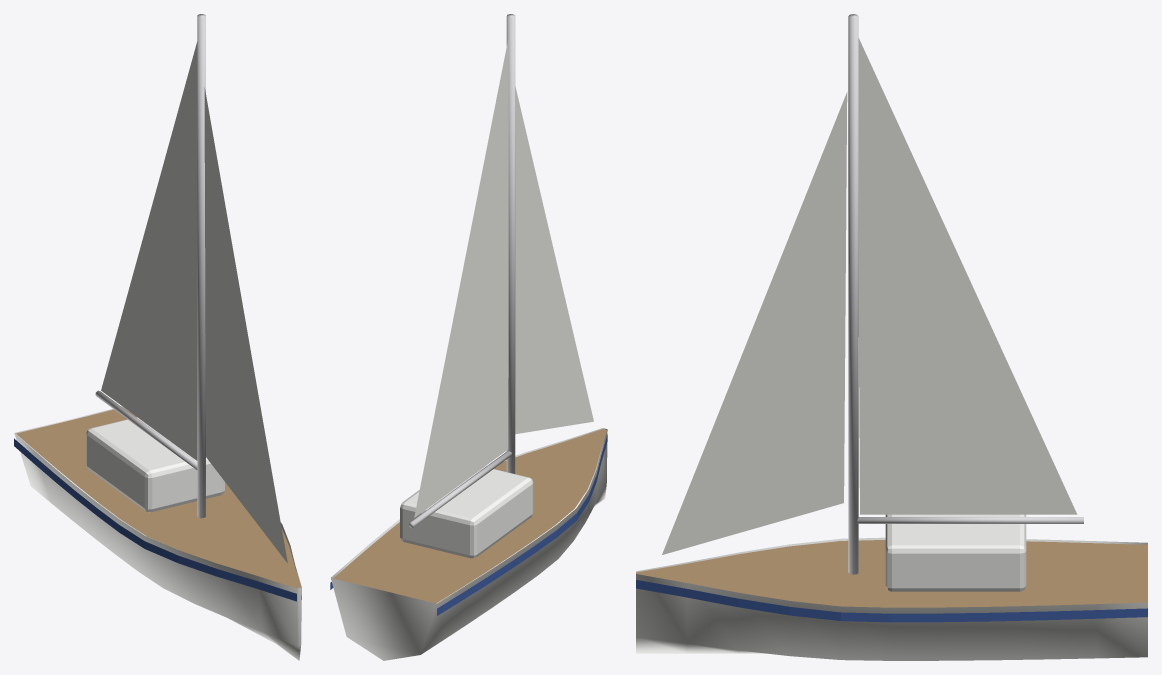
Rendered from boat.glb.
3 views of the same model, side by side, from view 1: azimuth 30°, elevation 25°; view 2: azimuth 150°, elevation 25°; view 3: azimuth 270°, elevation 25° (orthographic). The views are drawn at different scales.
Visible parts, largest first — view 1: boat; view 2: boat; view 3: boat.
Part boxes in pixels (bbox=[...]): boat: bbox=[14, 14, 301, 660]; boat: bbox=[330, 14, 607, 660]; boat: bbox=[636, 14, 1147, 660].
Bounding box in the file's own units: 2.61 × 11 × 8.
